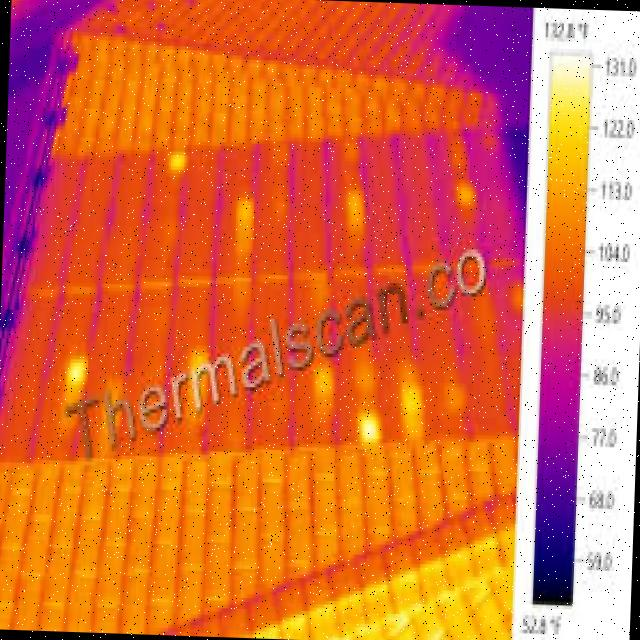Hotspot: (402, 378, 428, 444), (344, 182, 371, 242), (62, 352, 88, 406), (236, 194, 258, 256), (446, 379, 471, 427), (314, 363, 335, 404), (358, 412, 378, 442), (459, 179, 478, 209), (170, 154, 187, 173), (190, 352, 206, 371)
